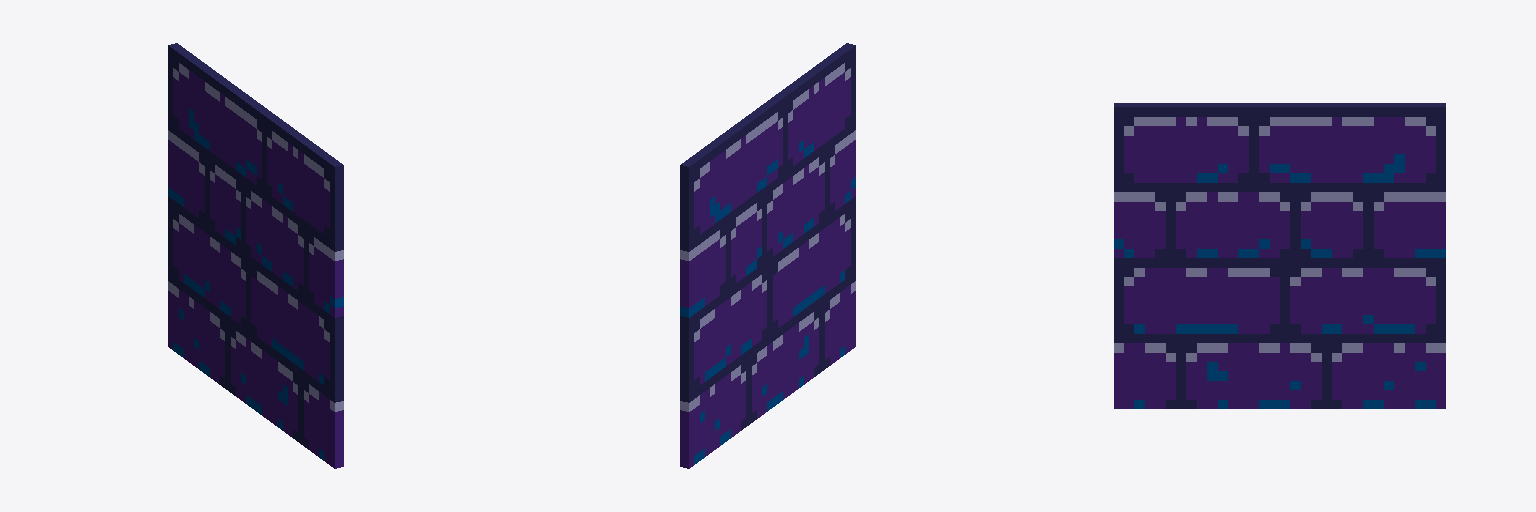
The picture shows the model from 3 angles: view 1: azimuth 30°, elevation 25°; view 2: azimuth 150°, elevation 25°; view 3: azimuth 270°, elevation 25°; orthographic projection.
Parts seen in each view (by area): view 1: object 1; view 2: object 1; view 3: object 1.
Part boxes in pixels (left/top/right/bottom): object 1: left=168, top=43, right=343, bottom=468; object 1: left=680, top=43, right=855, bottom=468; object 1: left=1114, top=103, right=1445, bottom=408.
Bounding box in the file's own units: 0.1 × 3.2 × 3.2.
1 materials, 1 textured.